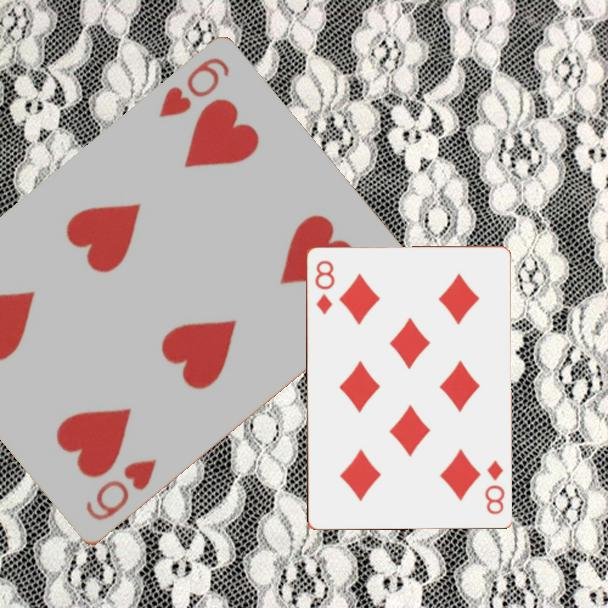d08: (311, 256, 337, 317), (481, 456, 507, 517)
h06: (82, 456, 160, 525), (155, 54, 233, 122)
